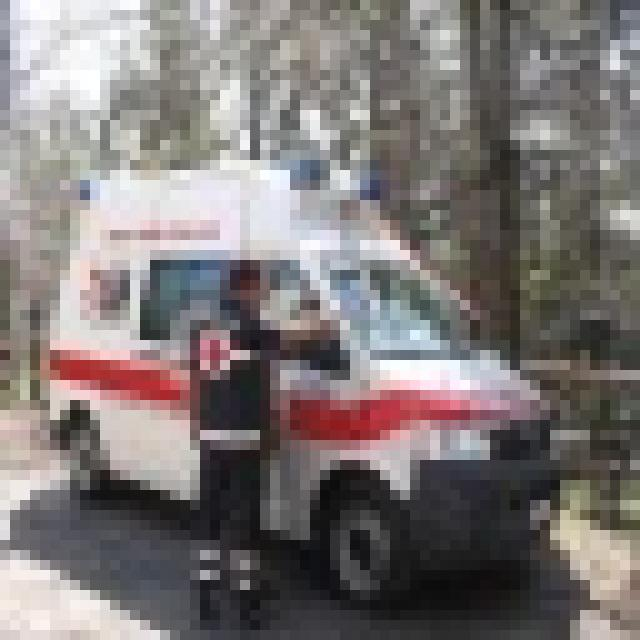Ambulance: (40, 150, 560, 600)
